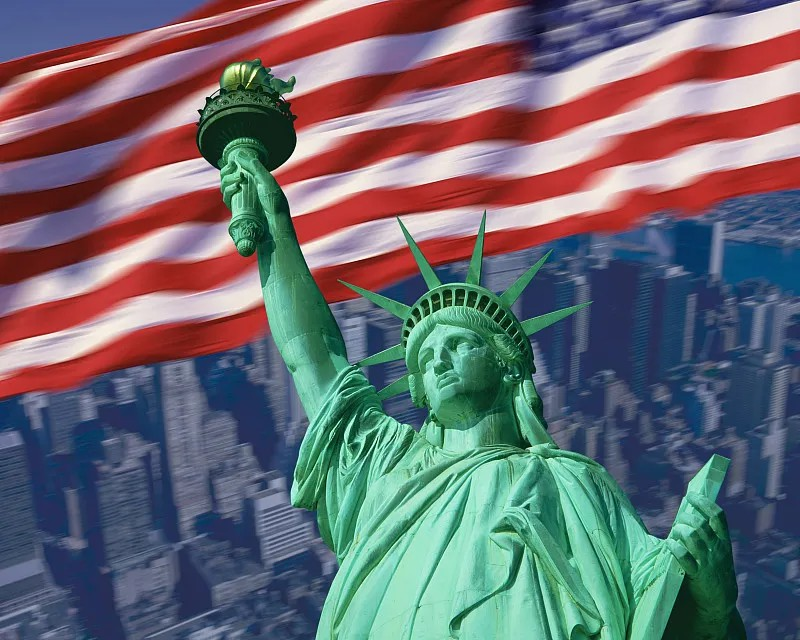SL: (196, 58, 747, 640)
